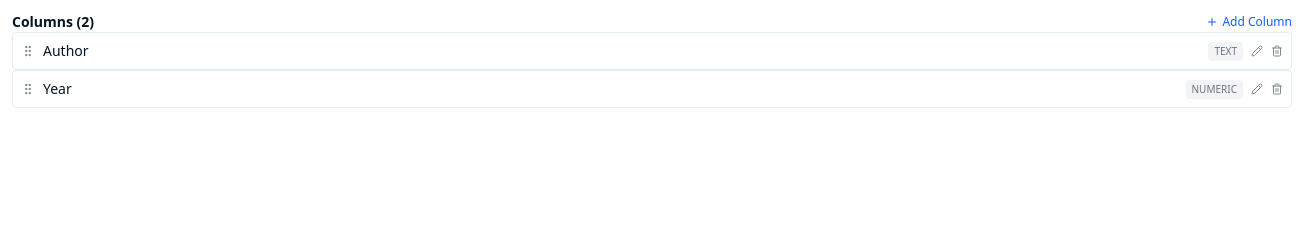
Test: GridConfigurator › shows add column form when clicked
The image size is (1304, 246).
Click the button with test id "add-column-btn" at (1249, 22), box left=1206, top=14, right=1292, bottom=30
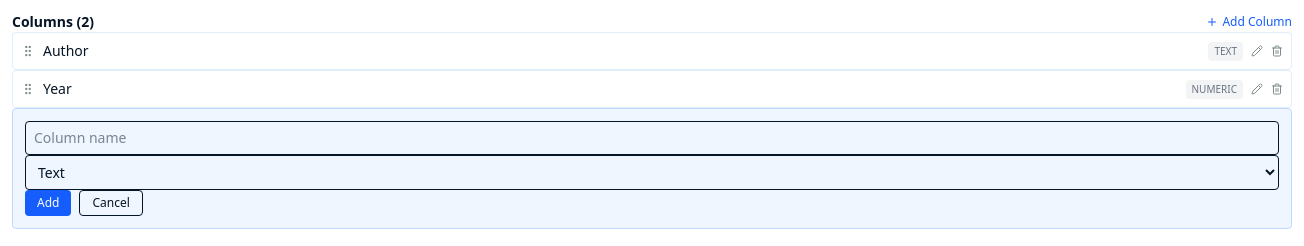
Expected: the element with test id "add-column-form" is shown, left=12, top=108, right=1292, bottom=229
Expected: the field with test id "new-column-name" is shown, left=25, top=121, right=1279, bottom=155
Expected: the dropdown with test id "new-column-type" is shown, left=25, top=155, right=1279, bottom=190
